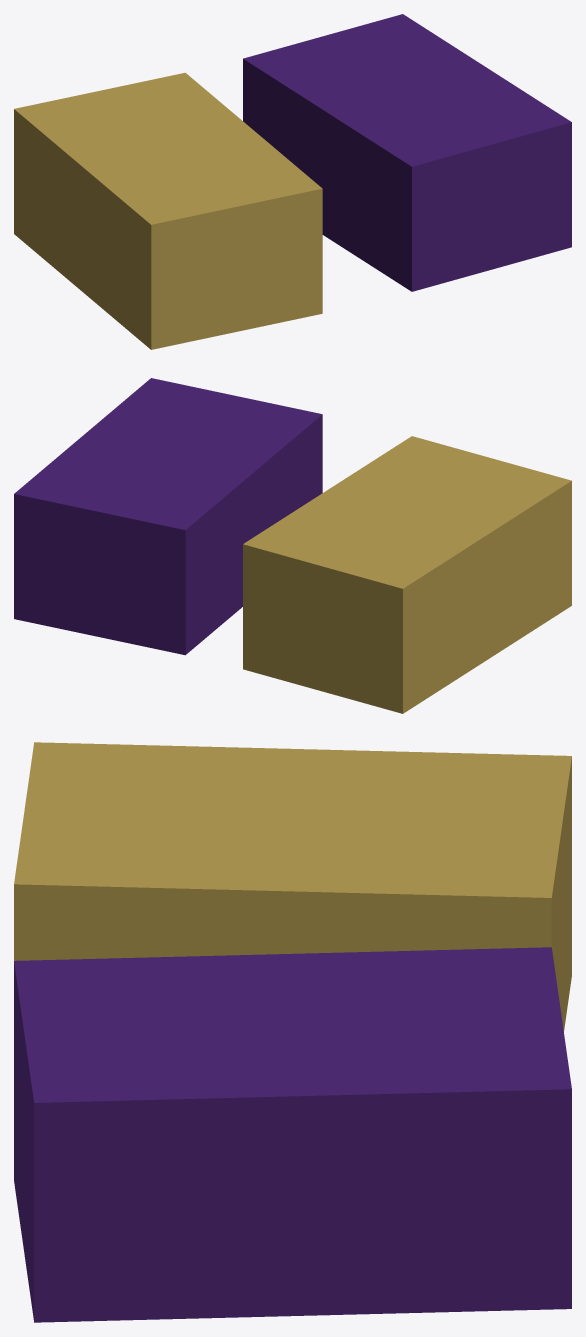
The model's file is feet.glb.
3 renders of one model, top to bottom at view 1: azimuth 30°, elevation 25°; view 2: azimuth 150°, elevation 25°; view 3: azimuth 270°, elevation 25°, orthographic. The views are drawn at different scales.
Visible parts, largest first — view 1: boot_-1, boot_1; view 2: boot_-1, boot_1; view 3: boot_1, boot_-1.
Part boxes in pixels (x1,y1,x2,y2): boot_-1: (14,72,322,349); boot_1: (243,14,571,291); boot_-1: (243,436,571,713); boot_1: (14,378,322,655); boot_1: (14,947,571,1322); boot_-1: (14,742,571,1031).
Bounding box in the file's own units: 0.6335 × 0.18 × 0.4143.
